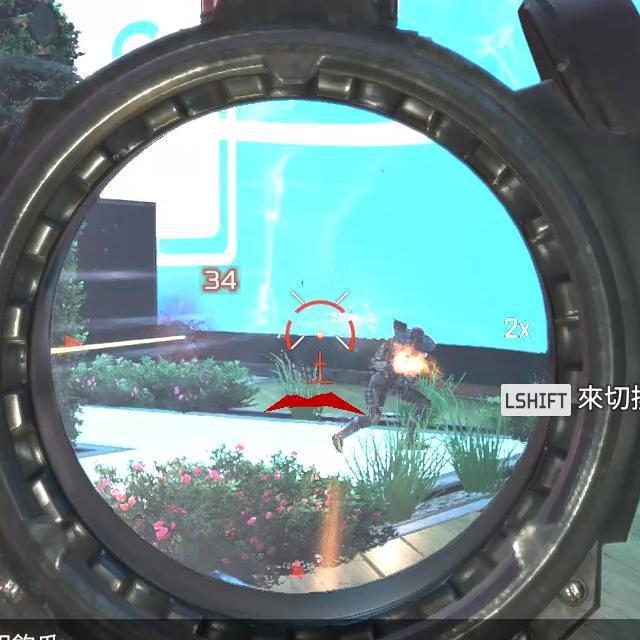avatar: (363, 316, 439, 440)
